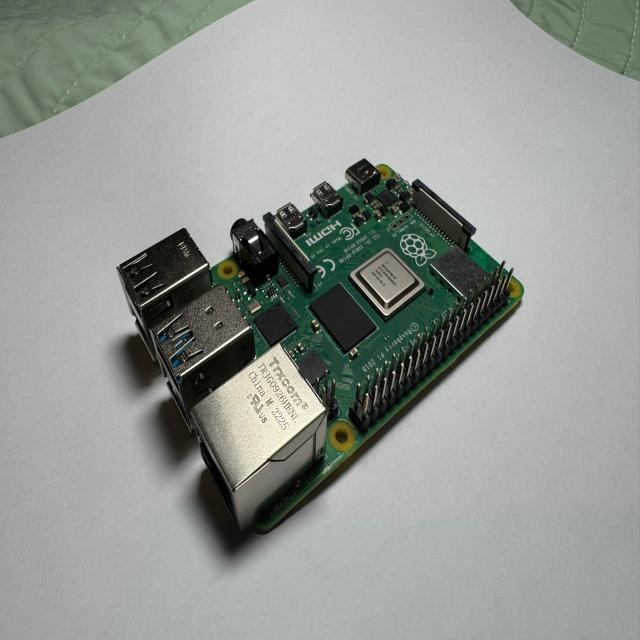CPU: (351, 248, 427, 322)
Ethernet: (182, 346, 327, 538)
GPIO: (337, 265, 523, 430)
RAM: (308, 285, 377, 358)
Raspberry: (117, 160, 525, 540)
micro-hdmi: (309, 180, 346, 218), (276, 200, 308, 240)
